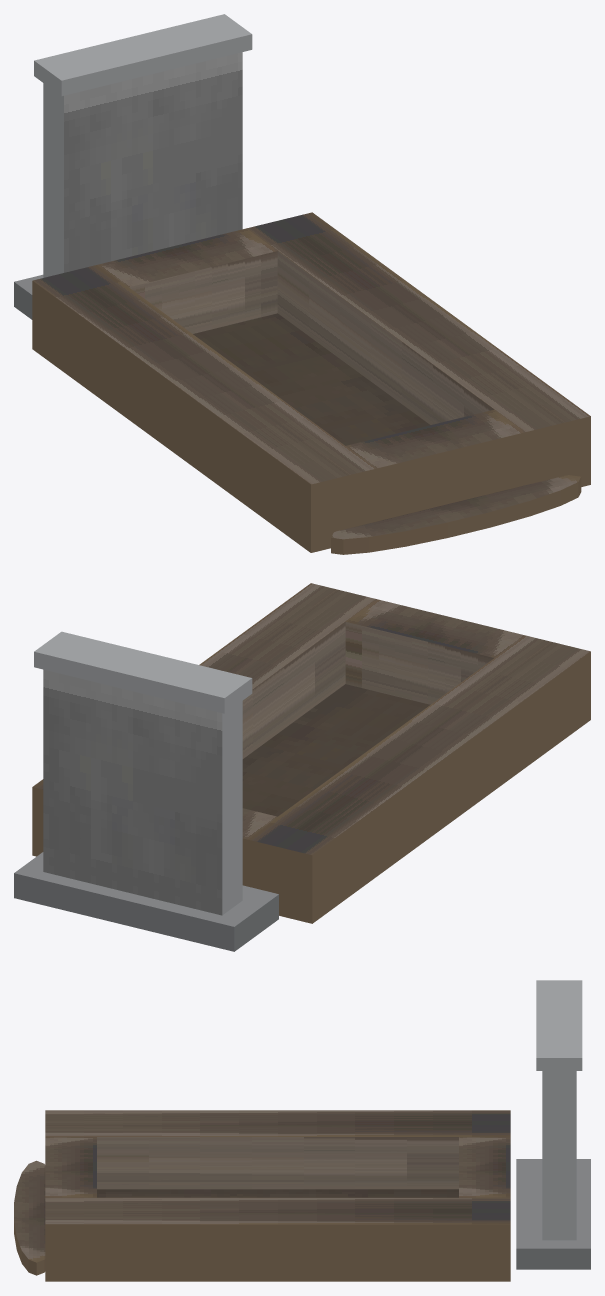
The model's file is Building_Grave__Empty.glb.
3 renders of one model, top to bottom at view 1: azimuth 30°, elevation 25°; view 2: azimuth 150°, elevation 25°; view 3: azimuth 270°, elevation 25°, orthographic. The views are drawn at different scales.
Visible parts, largest first — view 1: Grave__Empty; view 2: Grave__Empty; view 3: Grave__Empty.
Boxes of the visible parts, x1,y1,x2,y2 form: Grave__Empty: (14, 14, 590, 554); Grave__Empty: (14, 583, 590, 951); Grave__Empty: (14, 980, 590, 1281).
Bounding box in the file's own units: 0.94 × 0.79 × 2.01.
1 material, 1 textured.
